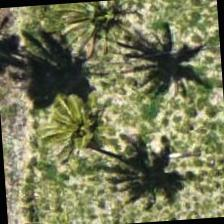Kelapa_Sawit: (26, 74, 122, 170)
